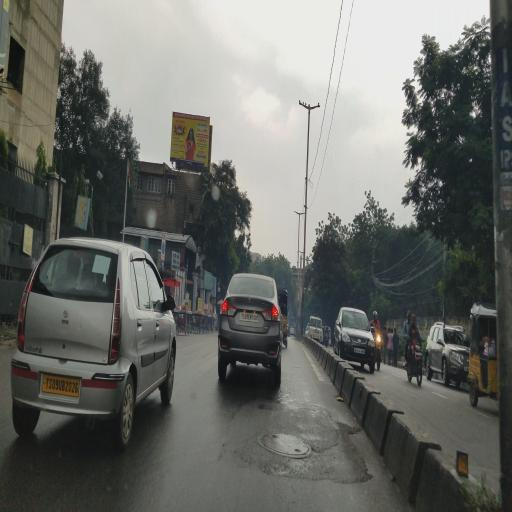street_light_0: (308, 94, 323, 114), (291, 92, 306, 112), (292, 206, 300, 220), (298, 204, 306, 218)
